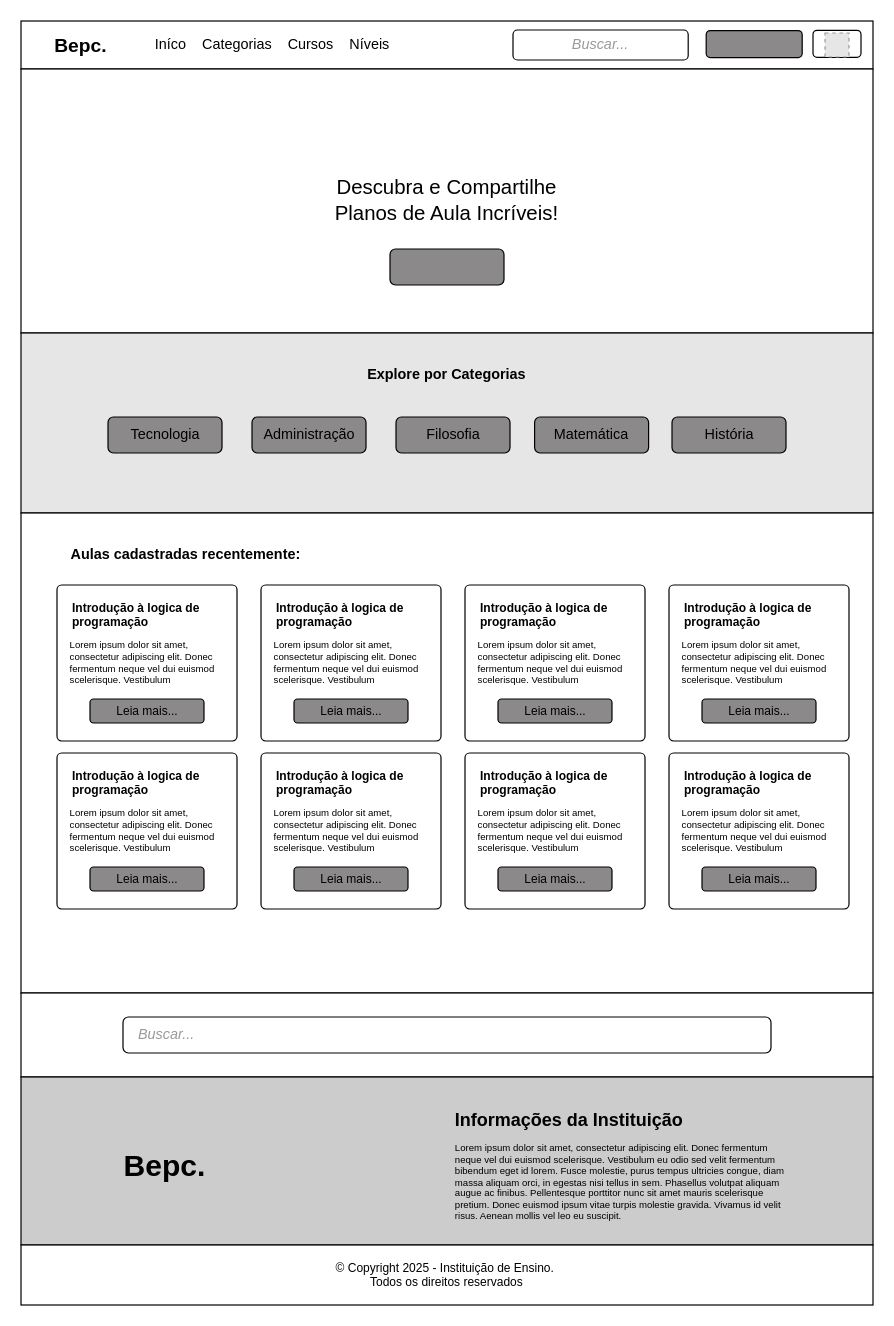
Image size: 894x1326. Some labels were removed from this diagram. Grey dashed boxes stand in for pictures. Here are the shapes that lost their labels. From the top down, the centre of each, then its label:
pixel 753 43: + Criar Aula
pixel 446 266: Criar Aula
